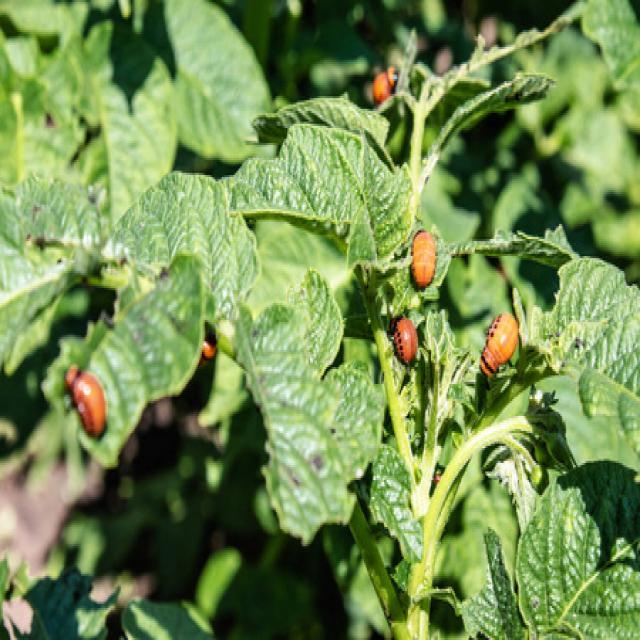ShuCaiHuaBanChong-Larva-: (479, 303, 527, 370), (408, 220, 446, 296), (394, 312, 426, 366)
